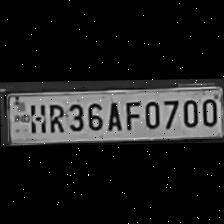0: (140, 98, 160, 130), (178, 96, 198, 128), (200, 94, 218, 127)
3: (65, 100, 83, 132)
6: (84, 100, 103, 131)
7: (160, 96, 178, 130)
A: (103, 98, 121, 132)
F: (122, 98, 140, 131)
H: (28, 102, 44, 134)
R: (44, 100, 64, 134)
